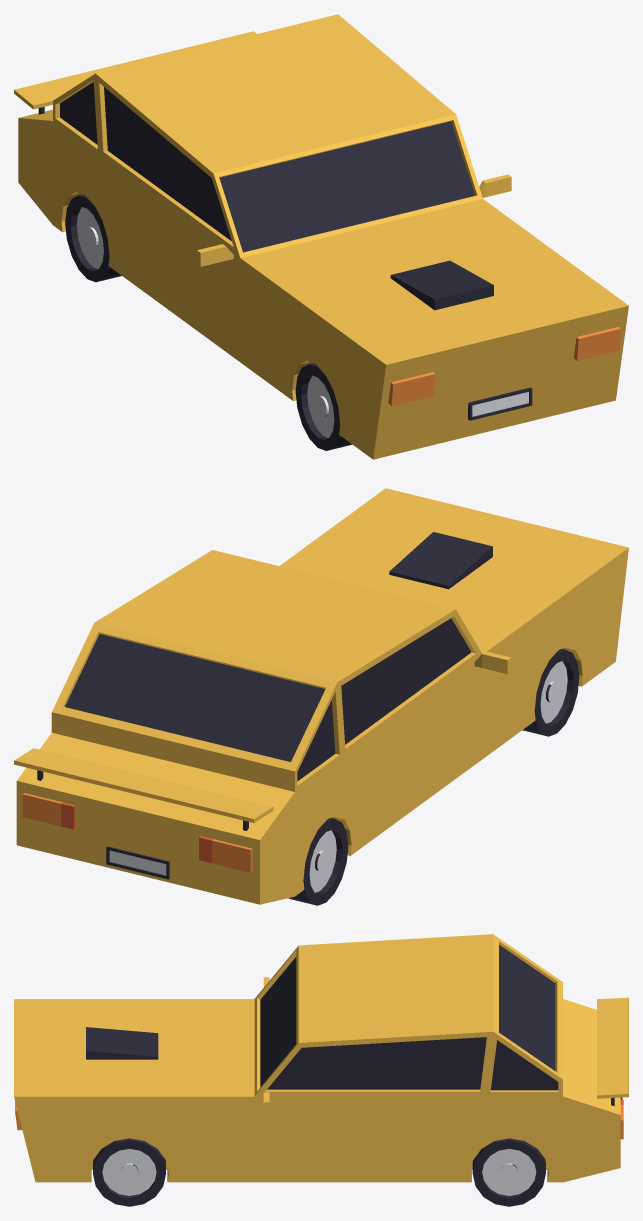
File: gaser auto.fbx
3 renders of one model, top to bottom at view 1: azimuth 30°, elevation 25°; view 2: azimuth 150°, elevation 25°; view 3: azimuth 270°, elevation 25°, orthographic. The views are drawn at different scales.
Parts seen in each view (by area): view 1: Cube.002; view 2: Cube.002; view 3: Cube.002.
Boxes of the visible parts, x1,y1,x2,y2 form: Cube.002: (14,14,628,459); Cube.002: (14,488,628,905); Cube.002: (14,934,628,1206).
Bounding box in the file's own units: 256 × 168 × 533.
